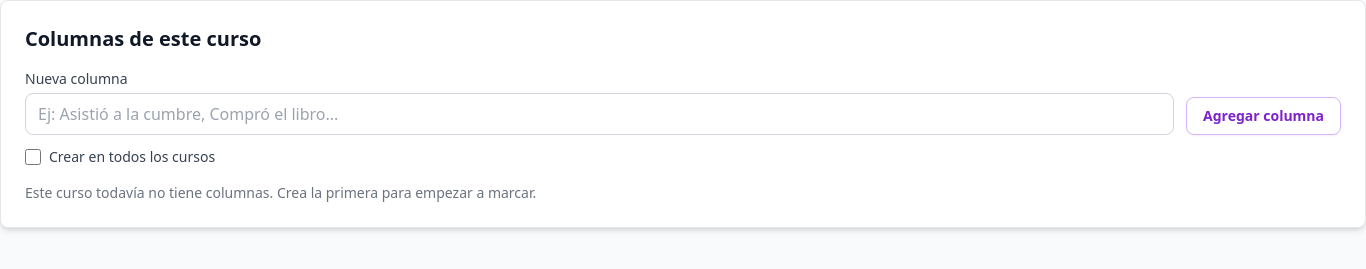
Test: crear en todos los cursos › marcarla cambia el texto del botón
Click the checkbox labelled "Crear en todos los cursos".
click(33, 157)  # box [25, 149, 41, 165]
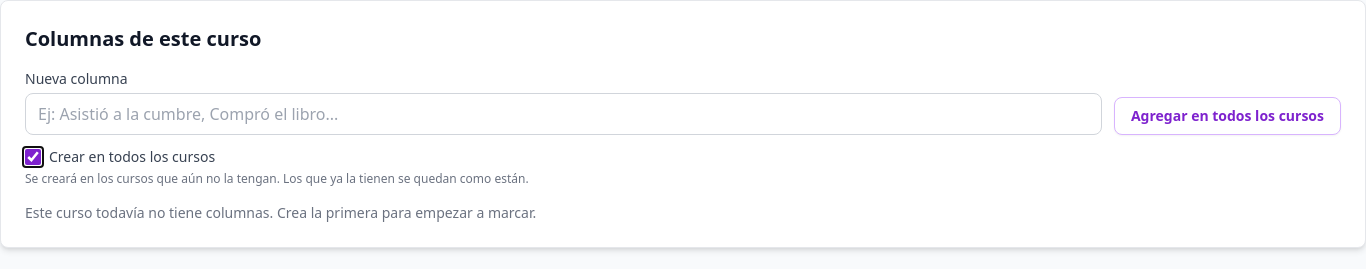
Check: the button "Agregar en todos los cursos" is shown, box [1114, 97, 1341, 135]
